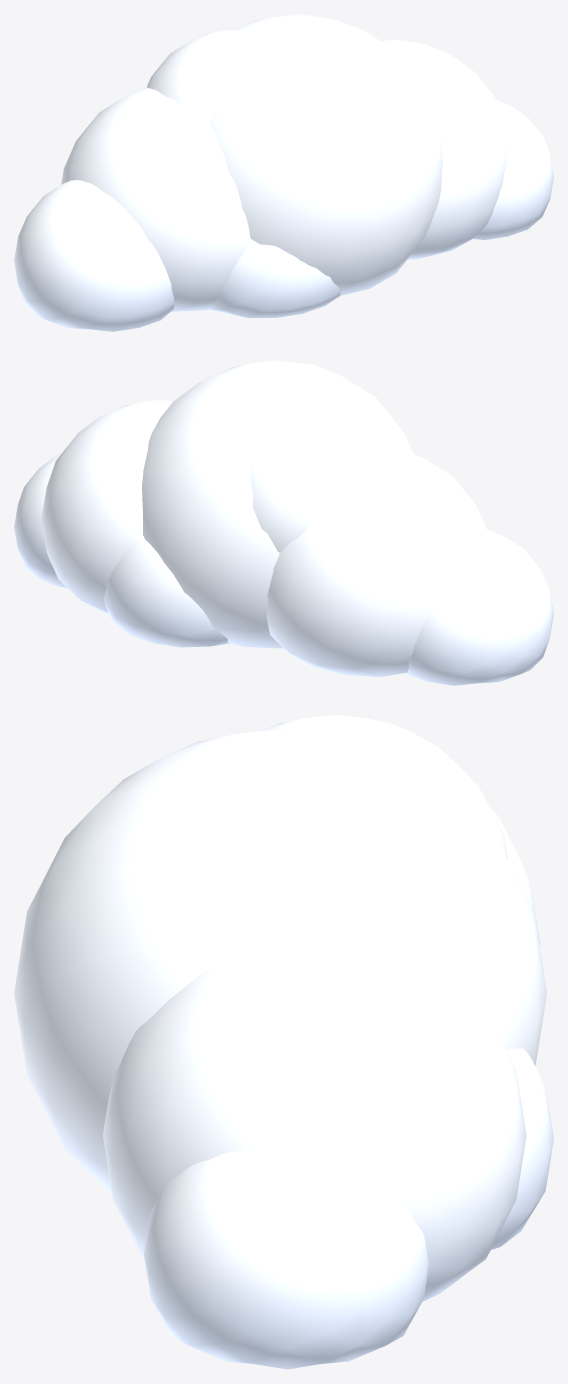
Rendered from cloud.glb.
3 renders of one model, top to bottom at view 1: azimuth 30°, elevation 25°; view 2: azimuth 150°, elevation 25°; view 3: azimuth 270°, elevation 25°, orthographic. The views are drawn at different scales.
Parts seen in each view (by area): view 1: Cloud; view 2: Cloud; view 3: Cloud.
Boxes of the visible parts, x1,y1,x2,y2 form: Cloud: [14, 14, 553, 331]; Cloud: [14, 360, 553, 685]; Cloud: [14, 714, 553, 1369].
Size of the model in its own units: 15.6 by 6.93 by 7.9.
